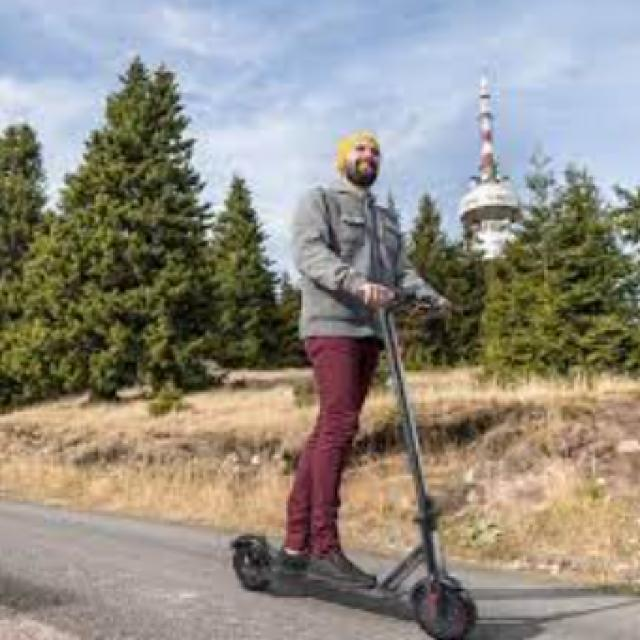non-helmet: (225, 116, 487, 640)
